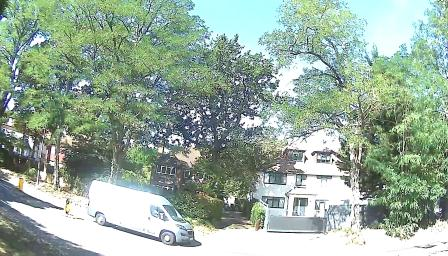Cars: (85, 177, 199, 249)
